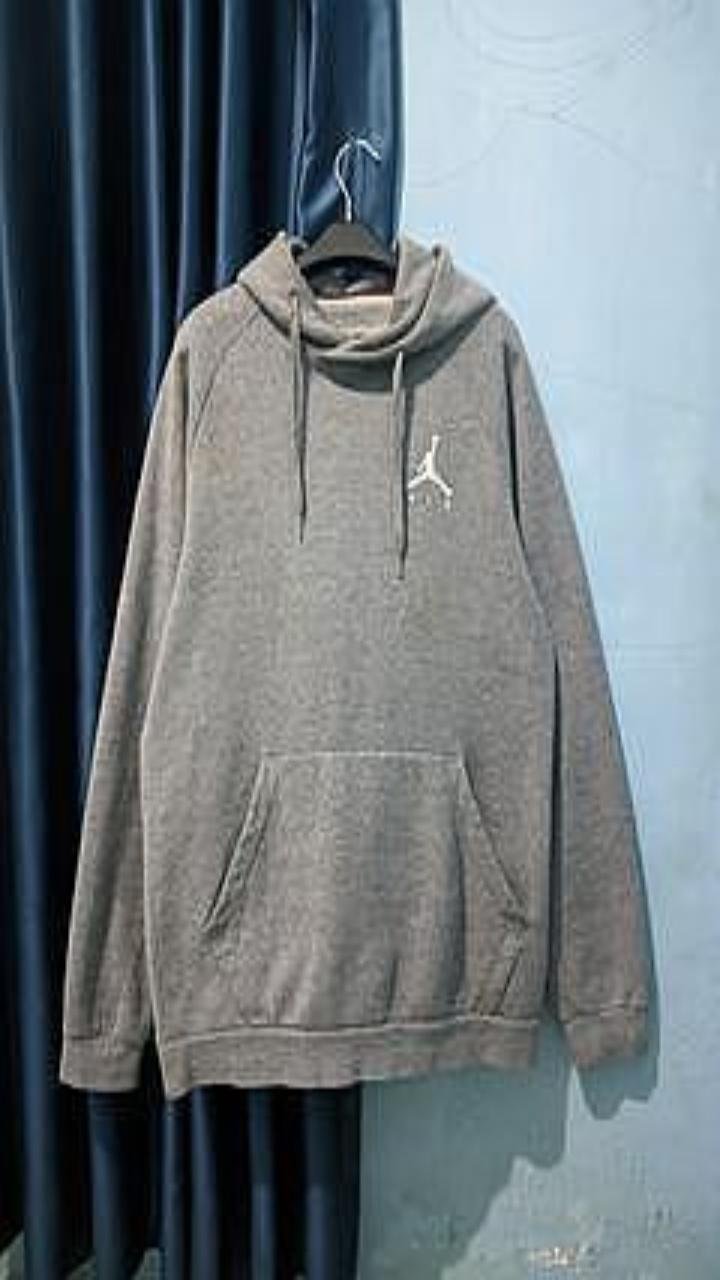Hoodie: (60, 231, 647, 1097)
